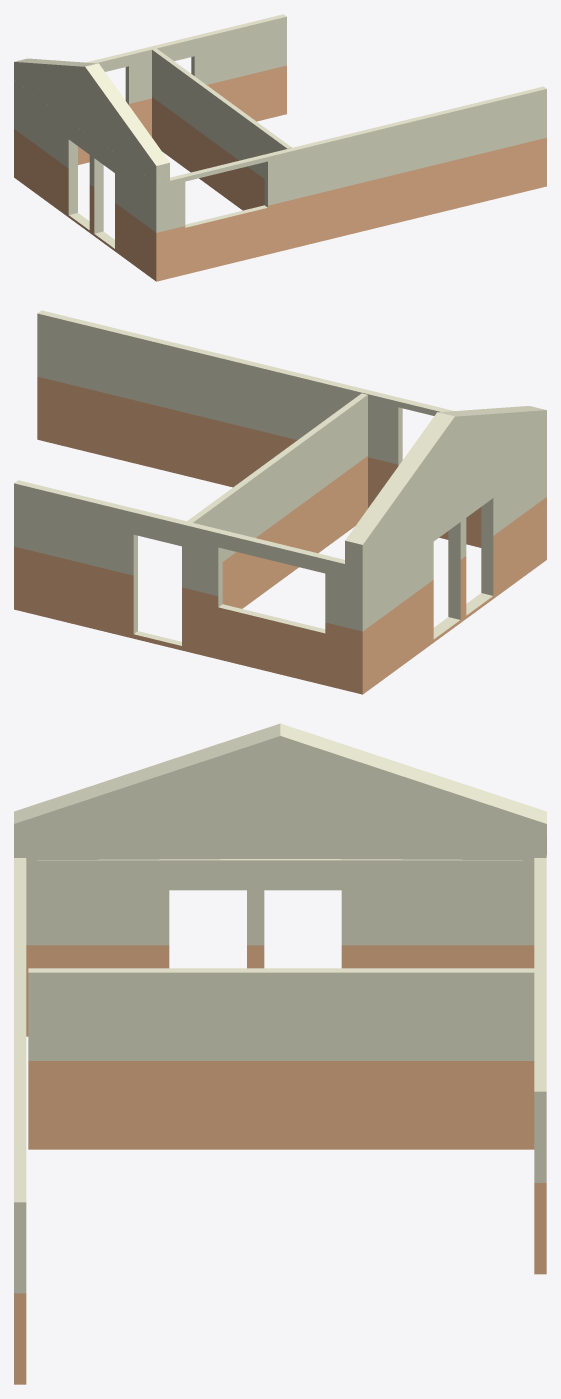
The model's file is pared1.glb.
The picture shows the model from 3 angles, top to bottom: view 1: azimuth 30°, elevation 25°; view 2: azimuth 150°, elevation 25°; view 3: azimuth 270°, elevation 25°; orthographic projection. The views are drawn at different scales.
Visible parts, largest first — view 1: Room.004; view 2: Room.004; view 3: Room.004.
Part boxes in pixels (x1,y1,x2,y2): Room.004: (14, 14, 546, 281); Room.004: (14, 310, 546, 694); Room.004: (14, 723, 546, 1384).
Size of the model in its own units: 209 by 83.25 by 132.
